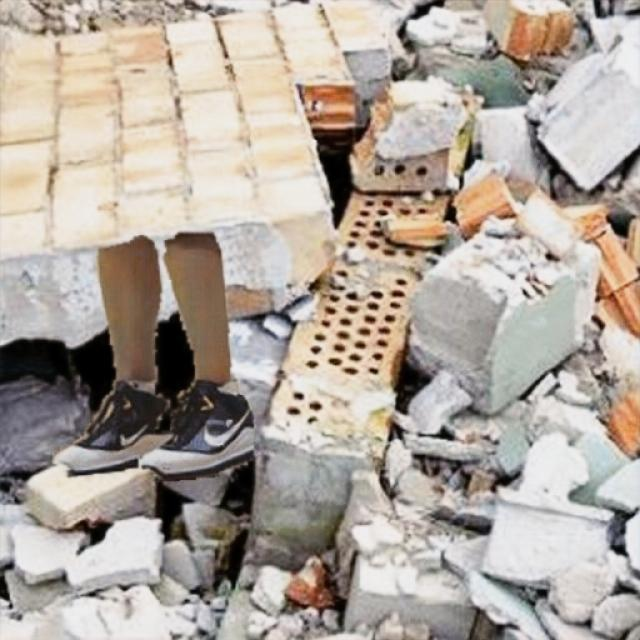Person in Rubble: (52, 233, 252, 482)
